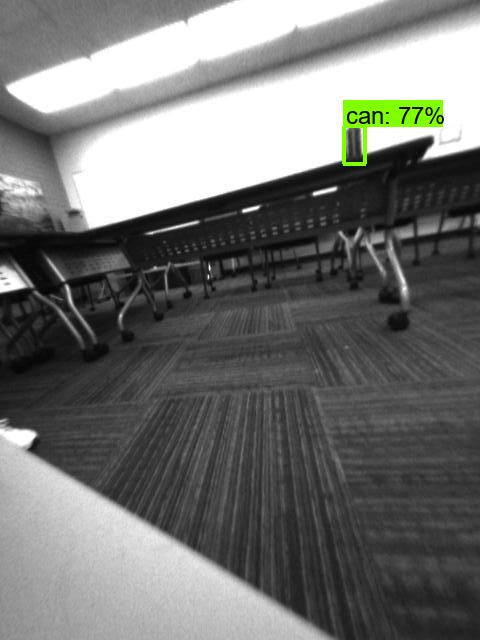can: (340, 120, 364, 162)
